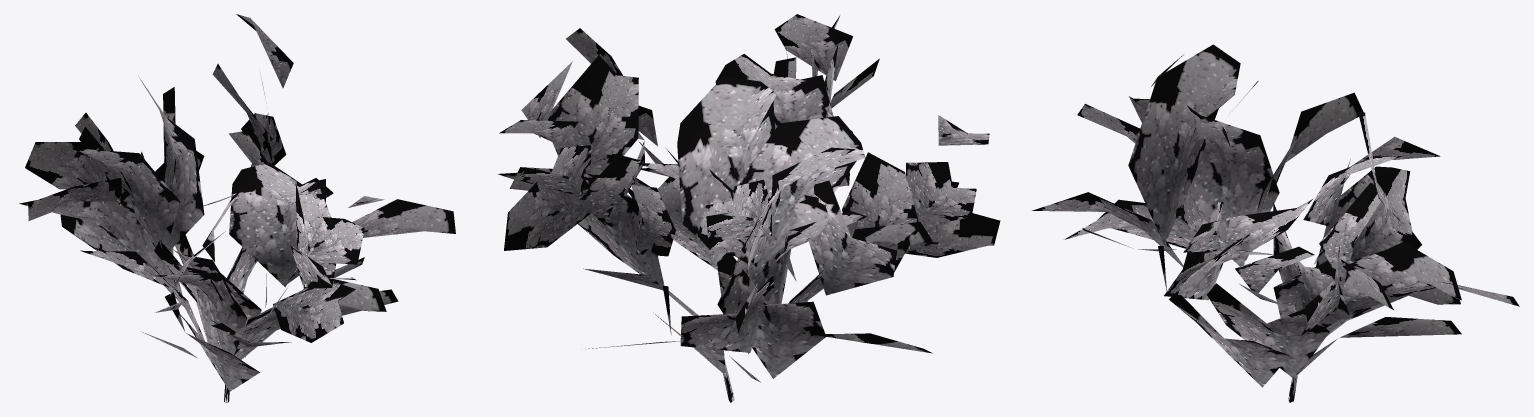
The model's file is pal_b05_tree_Bush-01_2_f66ac4.glb.
The picture shows the model from 3 angles, left to right: view 1: azimuth 30°, elevation 25°; view 2: azimuth 150°, elevation 25°; view 3: azimuth 270°, elevation 25°; orthographic projection. The views are drawn at different scales.
Size of the model in its own units: 4.25 by 3.65 by 4.55.
1 material, 1 textured.
